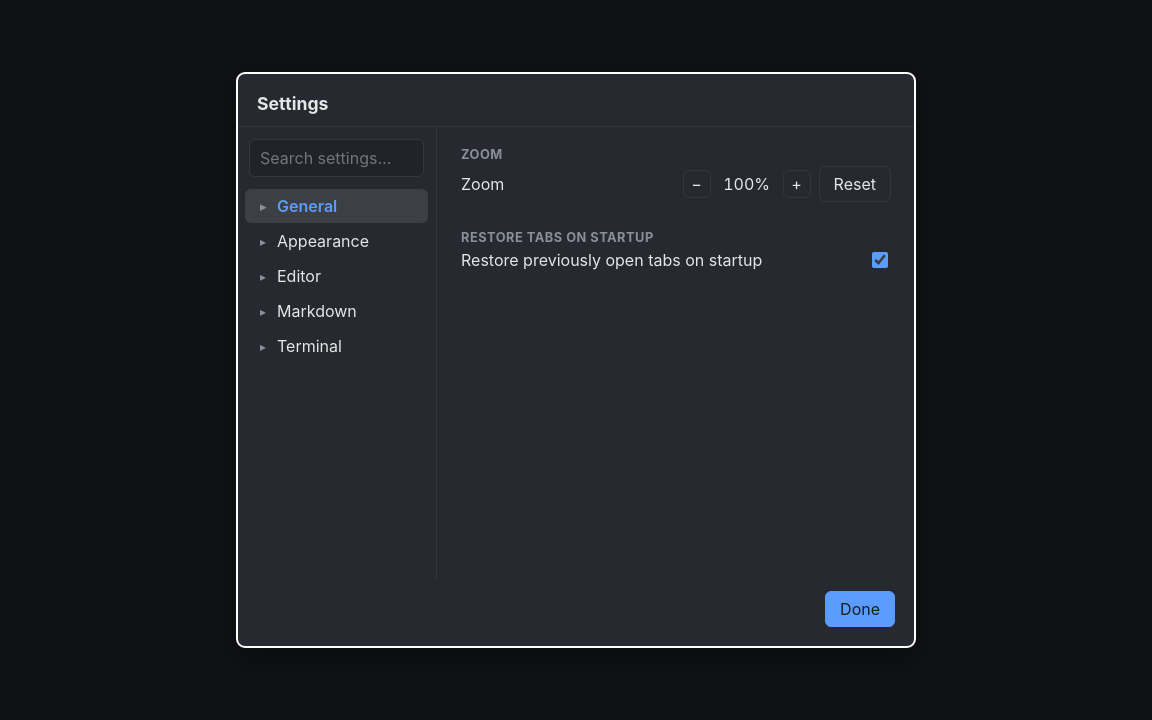
it: SettingsDialog › category caret vs. text click targets › gives the caret its own accessible name reflecting the category and its current expansion state
Click the button named "Expand Editor" at x=263, y=276, box [253,266,273,286]
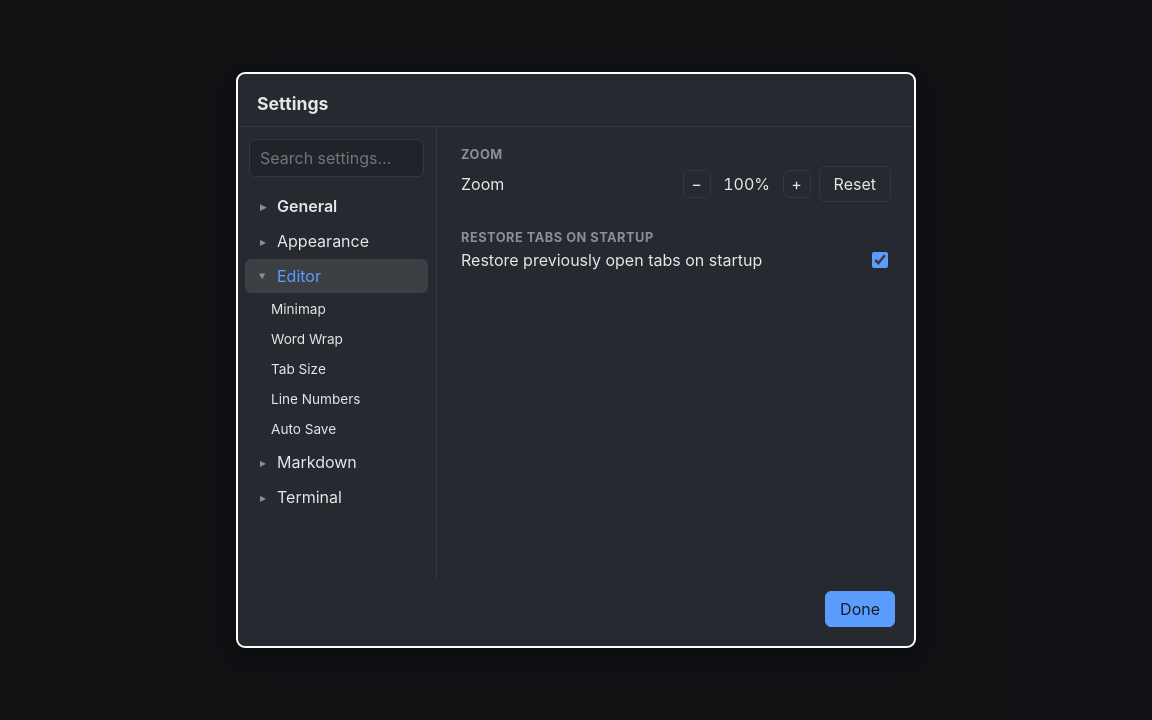
Expected: the button named "Collapse Editor" is shown, [253,266,273,286]
